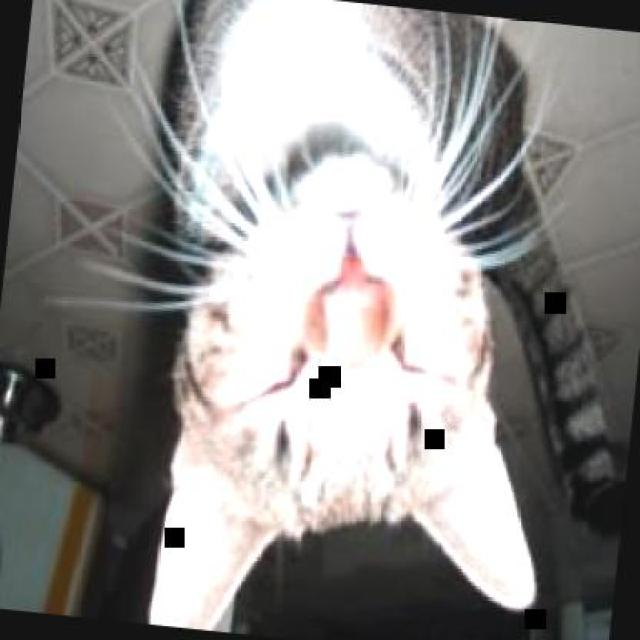cat: (116, 0, 638, 638)
